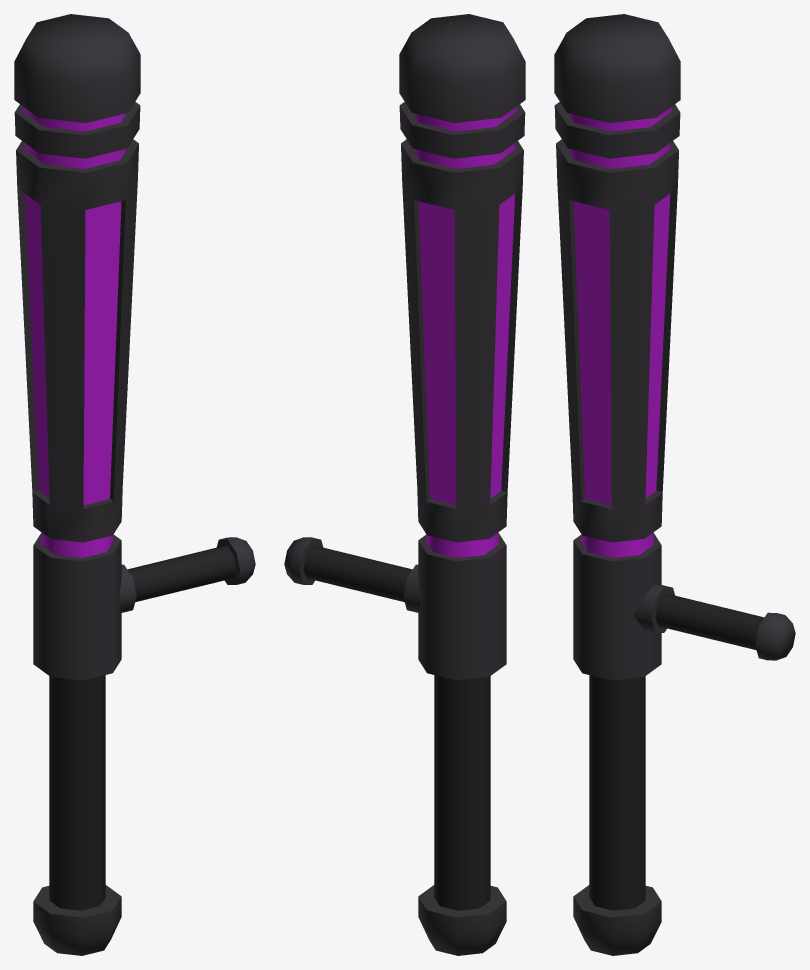
Rendered from Baton.fbx.
3 views of the same model, side by side, from view 1: azimuth 30°, elevation 25°; view 2: azimuth 150°, elevation 25°; view 3: azimuth 330°, elevation 25° (orthographic).
Visible parts, largest first — view 1: Weapon_Baton; view 2: Weapon_Baton; view 3: Weapon_Baton.
Part boxes in pixels (x1=…): Weapon_Baton: x1=14, y1=14, x2=255, y2=955; Weapon_Baton: x1=284, y1=14, x2=525, y2=955; Weapon_Baton: x1=554, y1=14, x2=795, y2=955.
Bounding box in the file's own units: 53.45 × 210 × 24.81.
